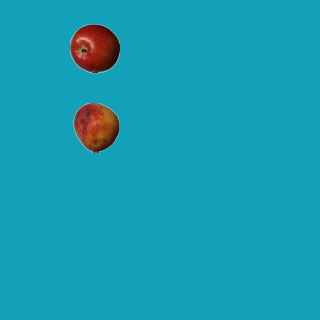Apple Braeburn: (69, 23, 119, 73)
Peach: (71, 102, 121, 152)
